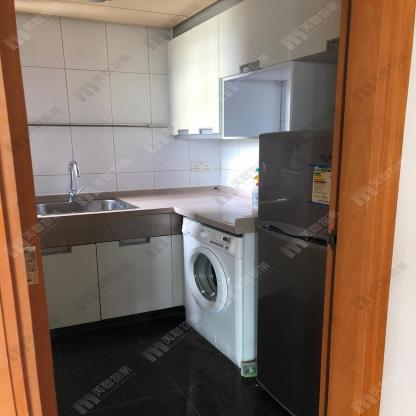Cupboard: (164, 12, 223, 140)
Faucet: (62, 159, 82, 196)
Fridge: (256, 130, 333, 416)
Sink: (35, 196, 142, 216)
Washing Machine: (181, 217, 244, 368)
